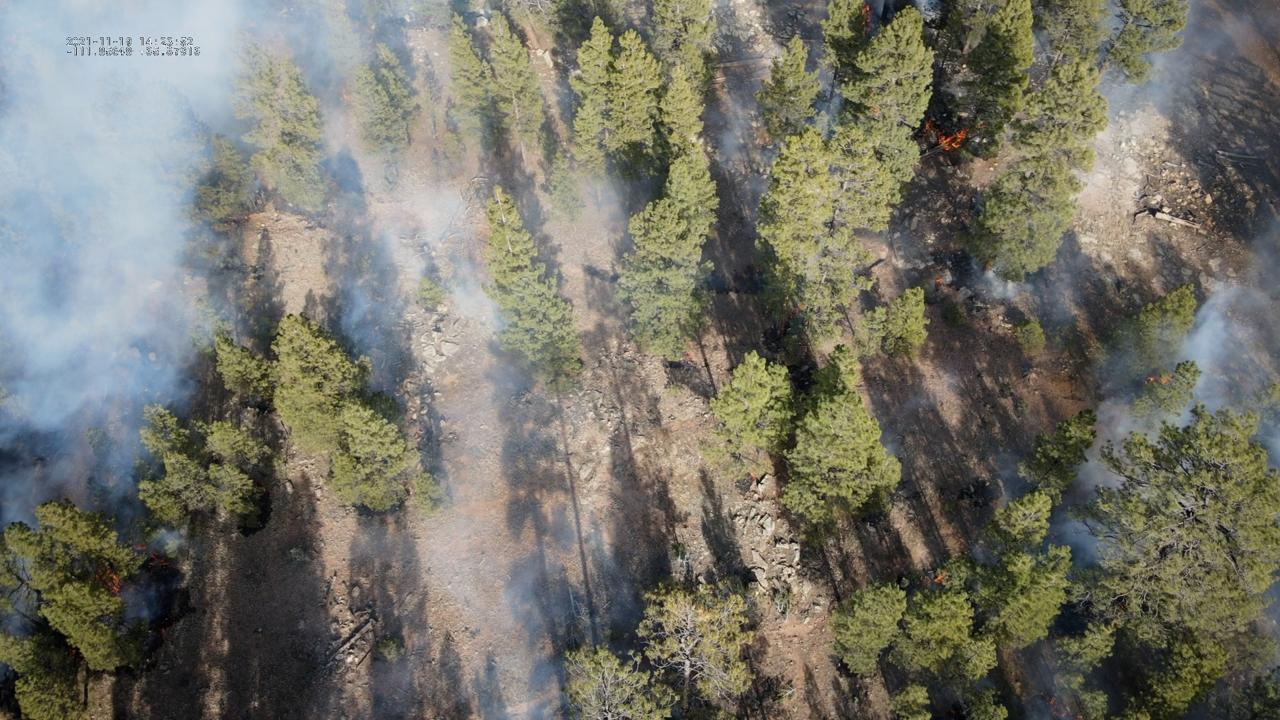fire: (88, 559, 121, 595), (1045, 695, 1084, 720), (936, 127, 971, 152), (150, 550, 171, 568), (1143, 375, 1174, 386), (862, 4, 872, 30), (922, 118, 932, 134), (133, 542, 148, 552), (873, 104, 881, 117), (934, 276, 945, 284)
smoke: (0, 0, 664, 720), (952, 187, 1280, 720), (1089, 0, 1280, 150), (693, 43, 851, 208), (878, 395, 936, 460), (863, 0, 942, 42), (952, 263, 1024, 300), (1027, 26, 1055, 82)
